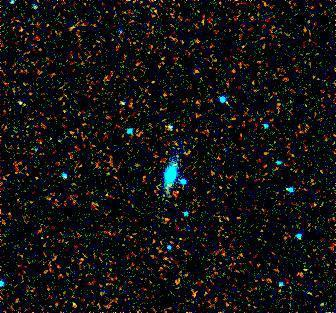star: (299, 285, 329, 313)
